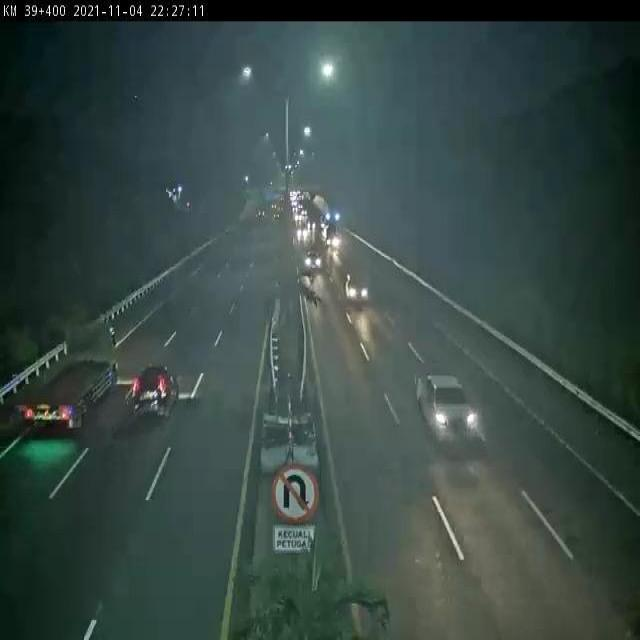car: (413, 368, 480, 441), (129, 362, 182, 426), (343, 268, 373, 307), (304, 247, 325, 272)
truck-m-: (16, 318, 122, 438)
